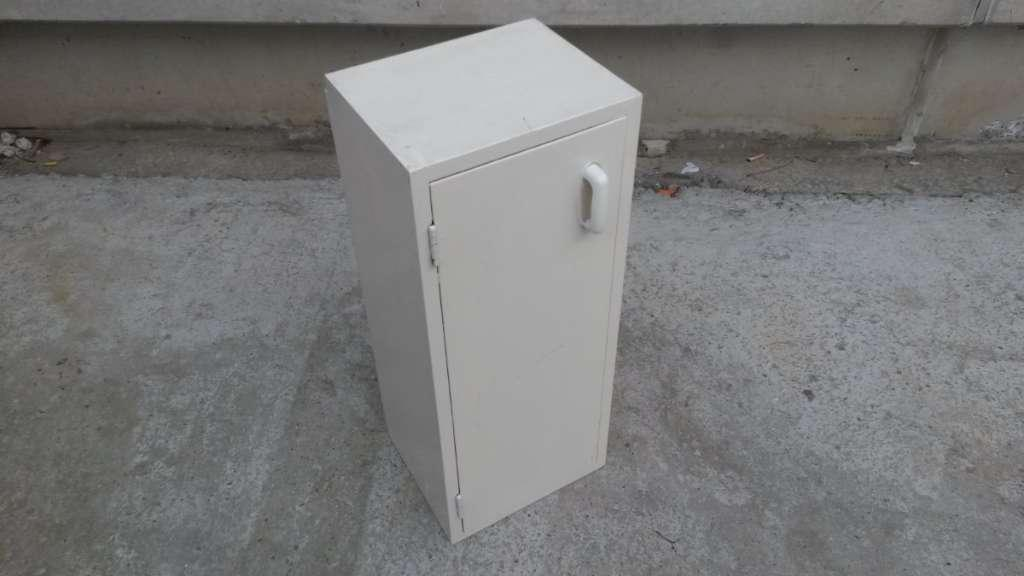cabinet_door: (425, 126, 618, 492)
handle: (564, 156, 614, 244)
